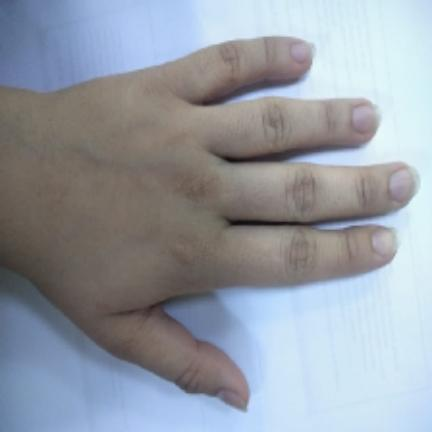Nail: (389, 166, 419, 204), (352, 105, 381, 133), (372, 229, 398, 255), (219, 389, 247, 410), (290, 42, 316, 62)
